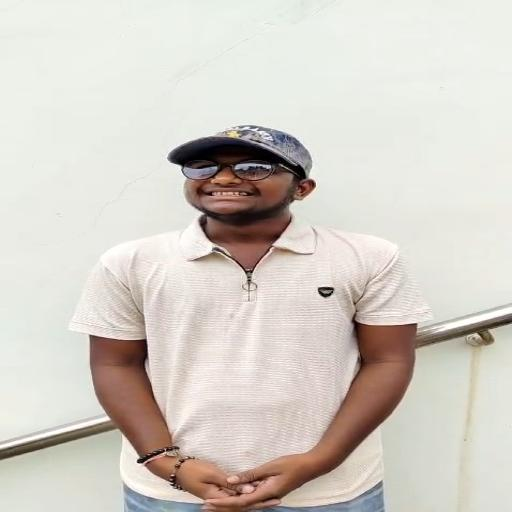employee-detectio-system: (45, 92, 454, 418)
